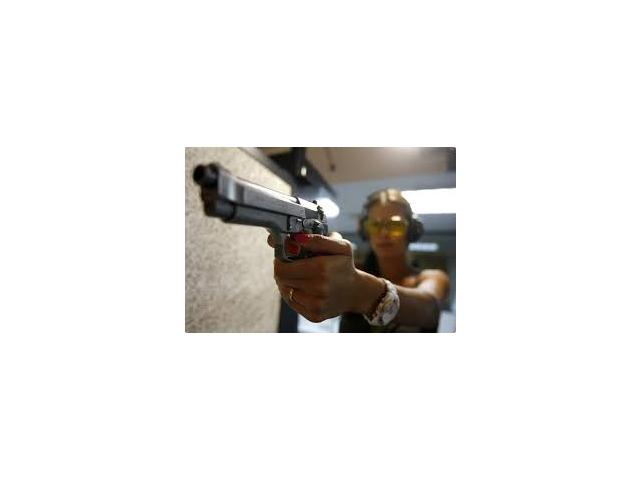pistol: (192, 160, 336, 325)
